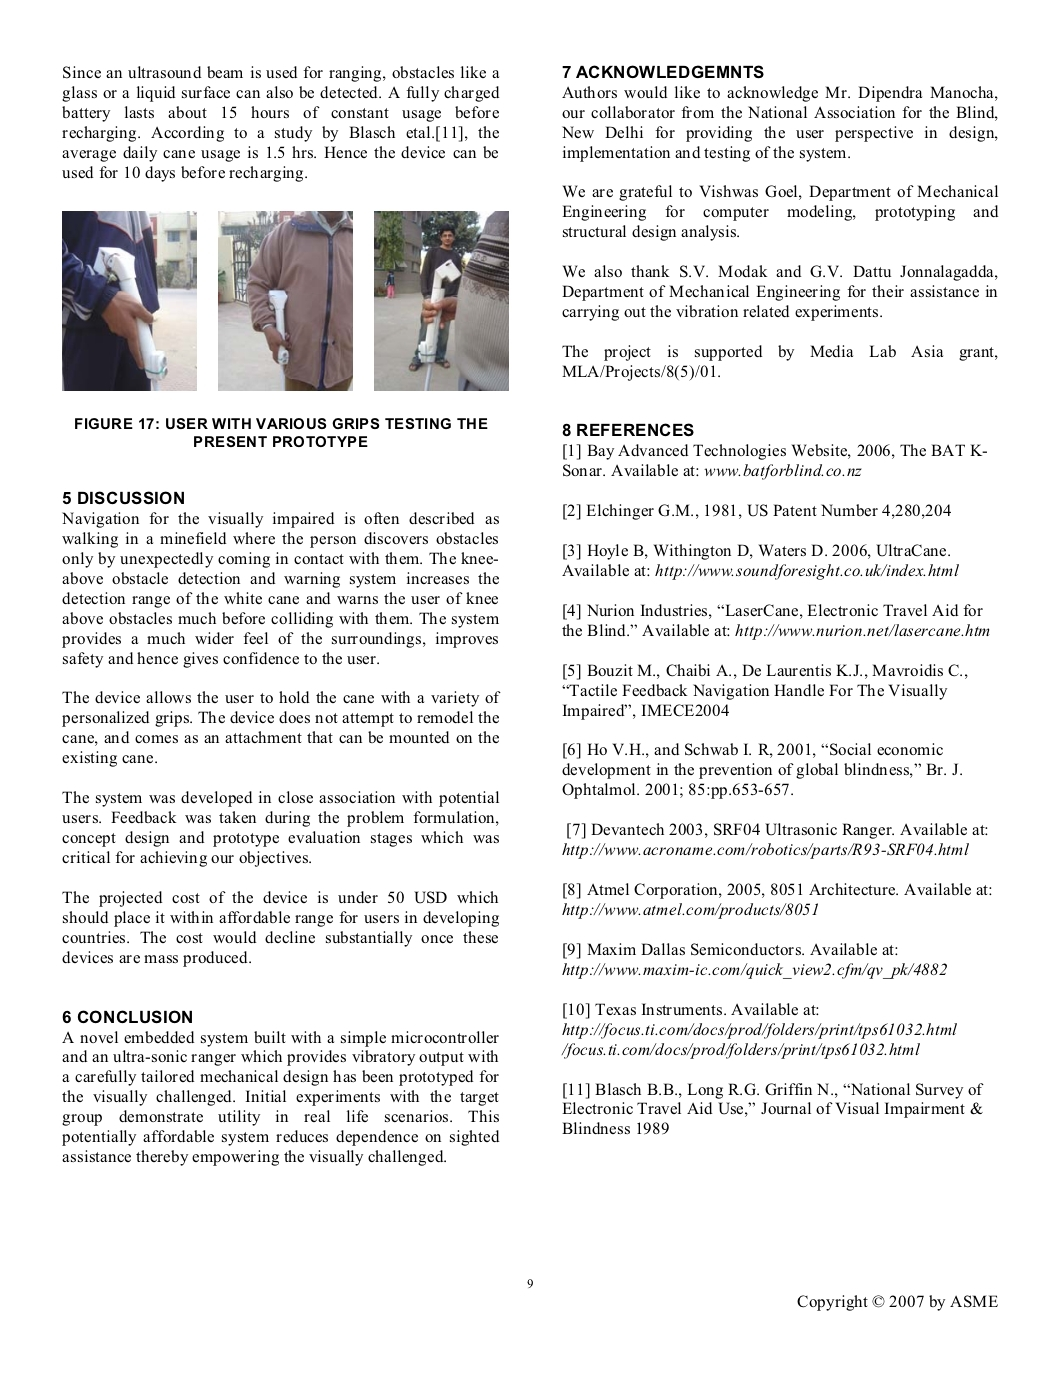figure: (62, 211, 196, 390), (218, 211, 352, 390), (374, 211, 508, 390)
